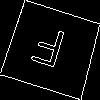F: (26, 24, 68, 77)
